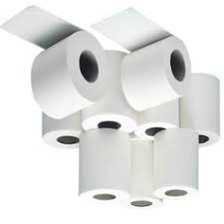tissue: (0, 0, 115, 123), (83, 3, 196, 115), (77, 45, 143, 138), (72, 123, 136, 208), (171, 67, 224, 151), (148, 124, 203, 204), (119, 136, 167, 212), (132, 94, 186, 143), (35, 108, 90, 153)
